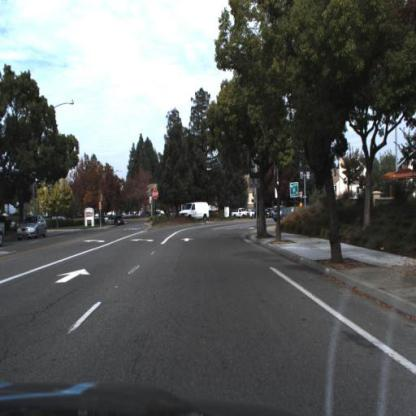car: (179, 197, 215, 228), (17, 213, 48, 244), (271, 204, 294, 227), (270, 203, 293, 225), (113, 212, 127, 228)
